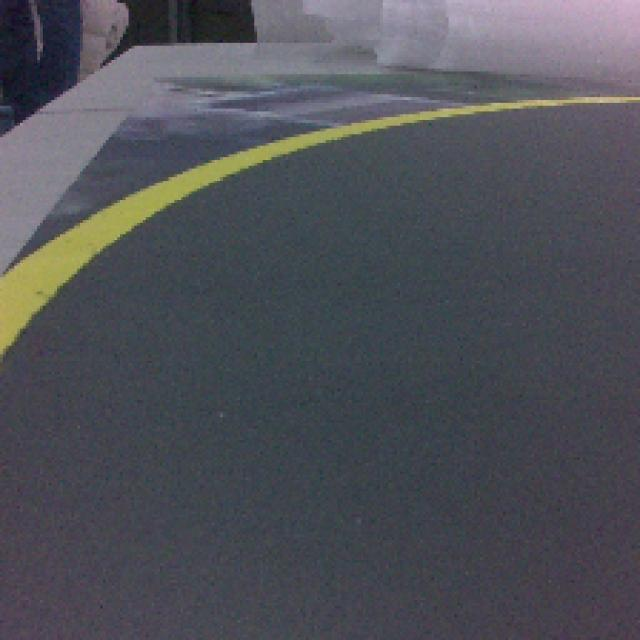Road: (0, 292, 635, 637)
